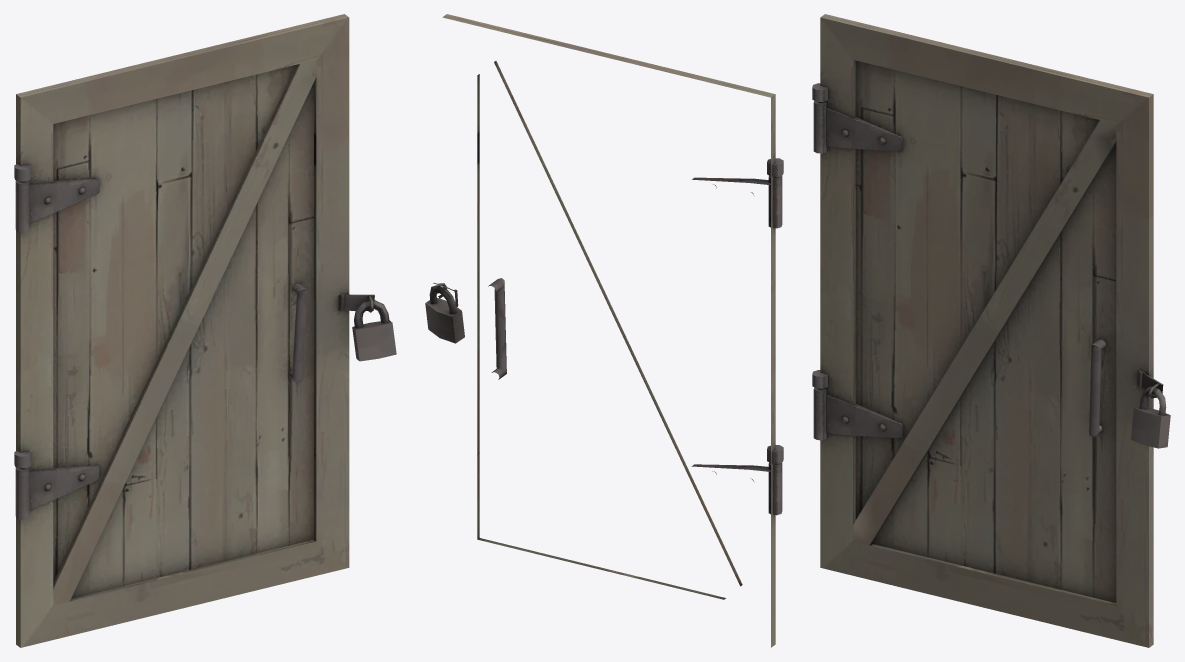
The picture shows the model from 3 angles, left to right: view 1: azimuth 30°, elevation 25°; view 2: azimuth 150°, elevation 25°; view 3: azimuth 330°, elevation 25°; orthographic projection.
Parts seen in each view (by area): view 1: body0_model0_lod0_mesh0; view 2: body0_model0_lod0_mesh0; view 3: body0_model0_lod0_mesh0.
Boxes of the visible parts, <box> form: body0_model0_lod0_mesh0: <box>14,14,396,647</box>; body0_model0_lod0_mesh0: <box>425,14,783,647</box>; body0_model0_lod0_mesh0: <box>812,14,1170,647</box>.
Bounding box in the file's own units: 89.2 × 128 × 10.38.
Materials: 1 (1 with a texture image).
